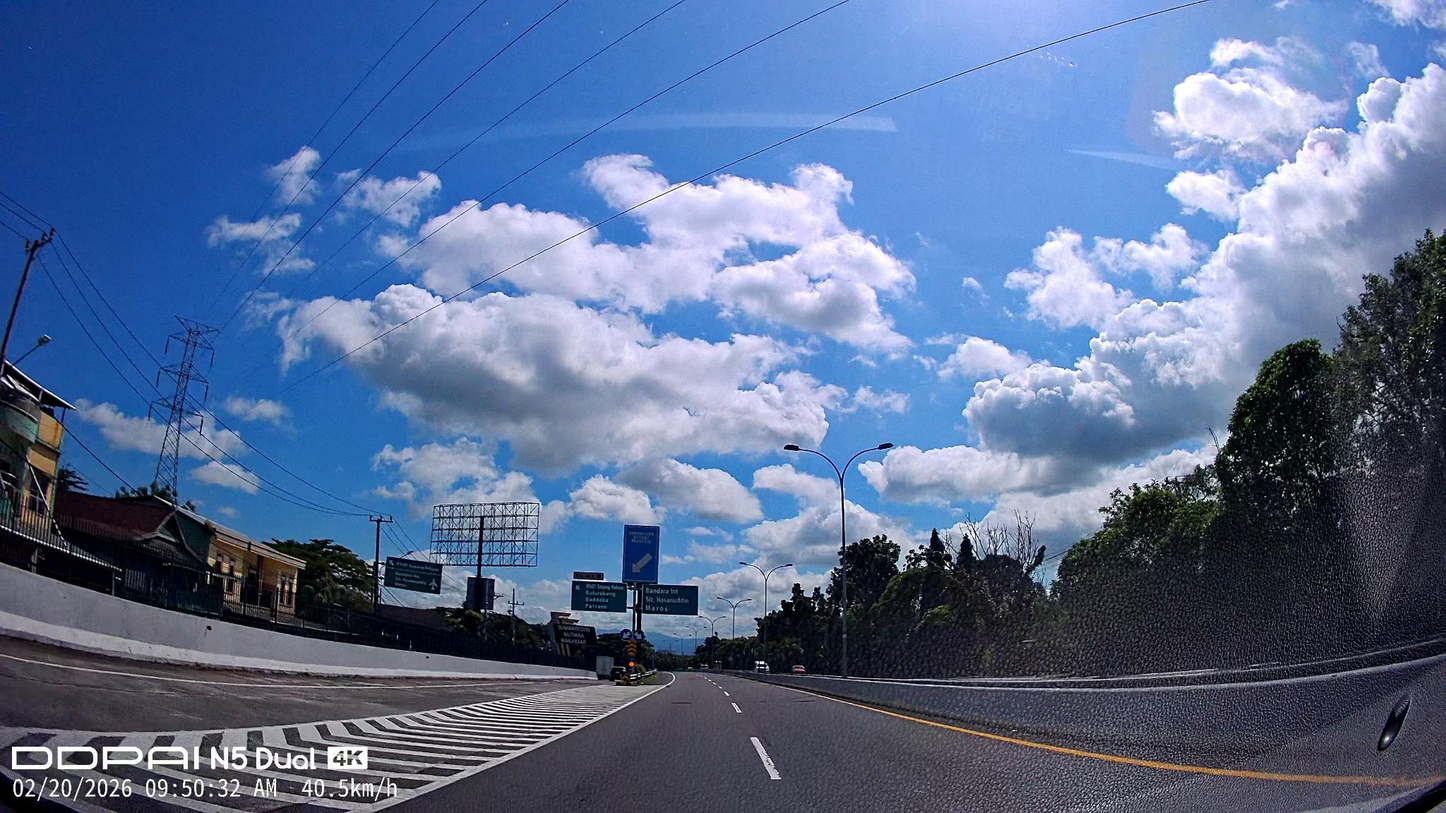rambu_teks: (641, 583, 699, 617), (570, 580, 628, 614)
